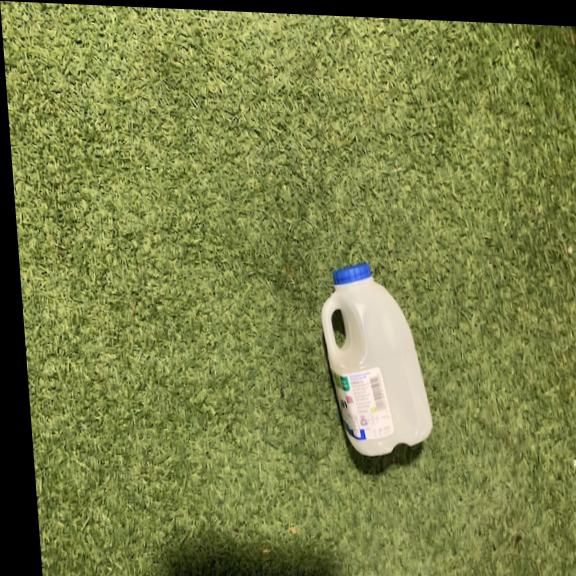Plastik: (315, 258, 438, 464)
